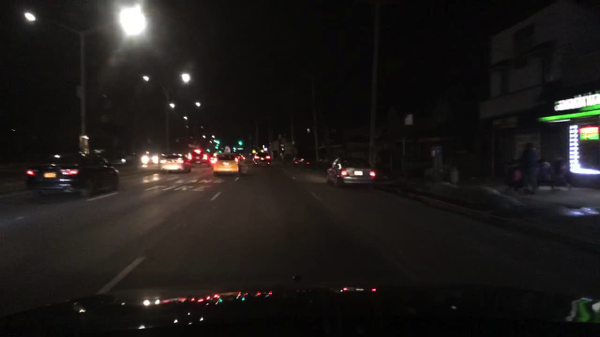car: (25, 152, 120, 200), (326, 156, 377, 190), (210, 147, 241, 175), (158, 154, 192, 174), (188, 147, 209, 163), (142, 151, 162, 167), (252, 152, 272, 167), (292, 154, 311, 167), (238, 155, 247, 163), (210, 155, 218, 164)
person: (519, 141, 540, 195), (506, 158, 525, 192), (535, 158, 552, 184), (553, 156, 570, 177)
traffic light: (237, 140, 244, 147), (214, 146, 219, 150)
traffic sign: (435, 147, 442, 154)
